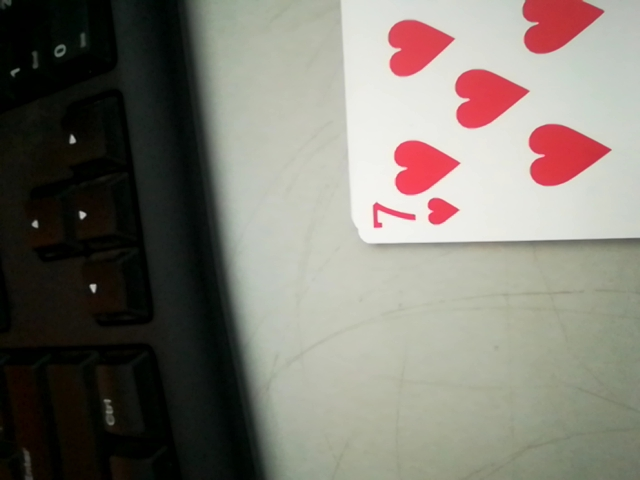hx 7: (367, 192, 463, 243)
